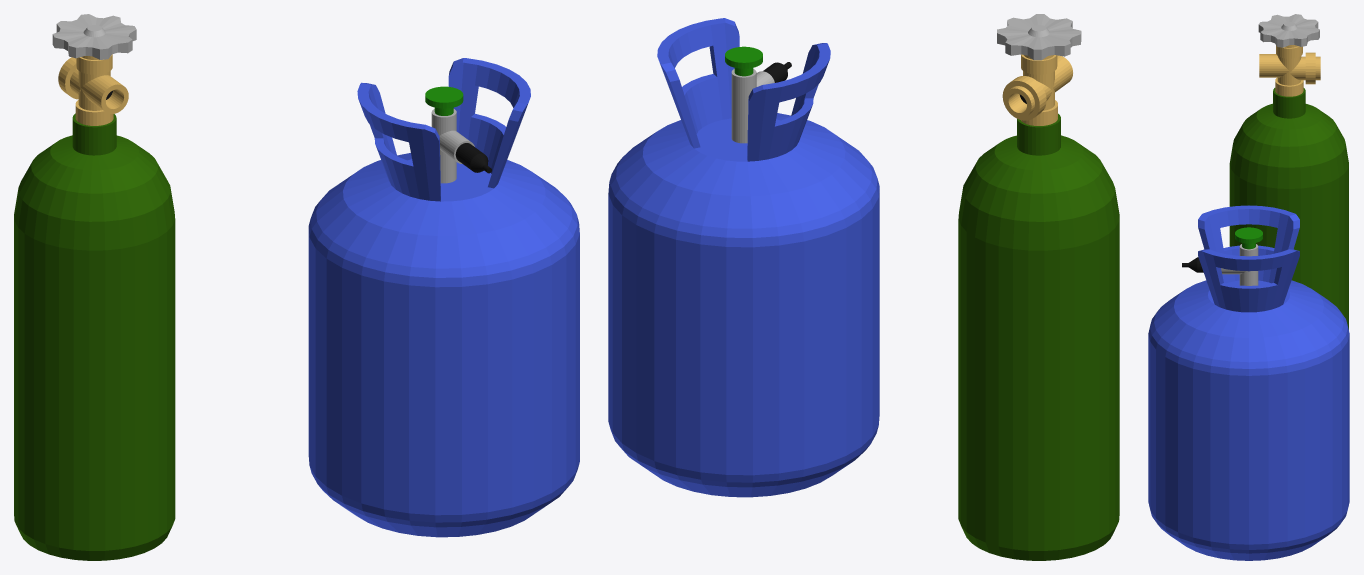
Rendered from Helium and Oxygen tank set.fbx.
3 views of the same model, side by side, from view 1: azimuth 30°, elevation 25°; view 2: azimuth 150°, elevation 25°; view 3: azimuth 270°, elevation 25° (orthographic). The views are drawn at different scales.
Visible parts, largest first — view 1: Helium Tank FBX, Oxygen Tank FBX; view 2: Helium Tank FBX, Oxygen Tank FBX; view 3: Helium Tank FBX, Oxygen Tank FBX.
Boxes of the visible parts, <box> form: Helium Tank FBX: <box>308,58,579,537</box>; Oxygen Tank FBX: <box>14,14,175,560</box>; Helium Tank FBX: <box>608,18,879,497</box>; Oxygen Tank FBX: <box>958,14,1119,560</box>; Helium Tank FBX: <box>1148,205,1349,560</box>; Oxygen Tank FBX: <box>1229,14,1348,329</box>.
Bounding box in the file's own units: 671 × 679 × 310.
